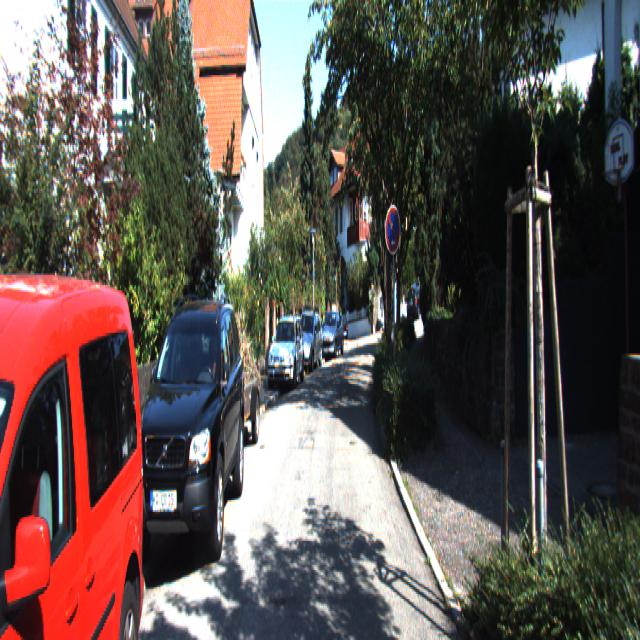Car: (0, 247, 156, 638), (124, 286, 246, 596), (202, 362, 264, 457), (266, 312, 306, 394), (293, 308, 323, 375), (320, 311, 344, 364), (407, 282, 426, 320)
